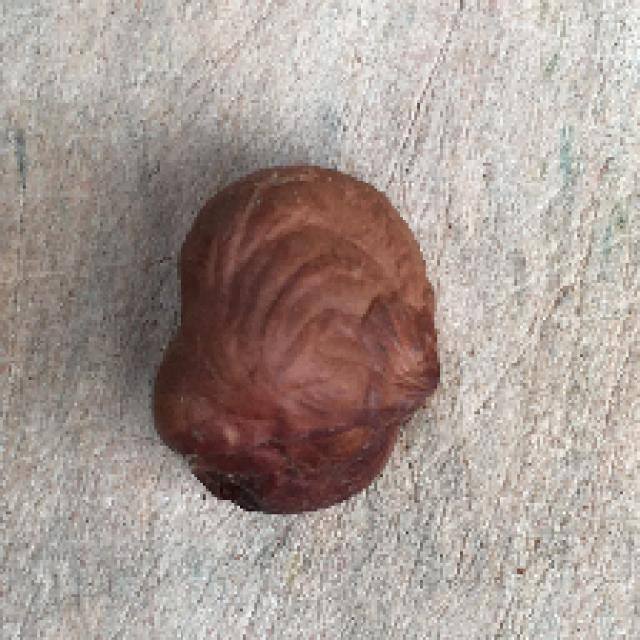hazelnut: (143, 160, 458, 509)
